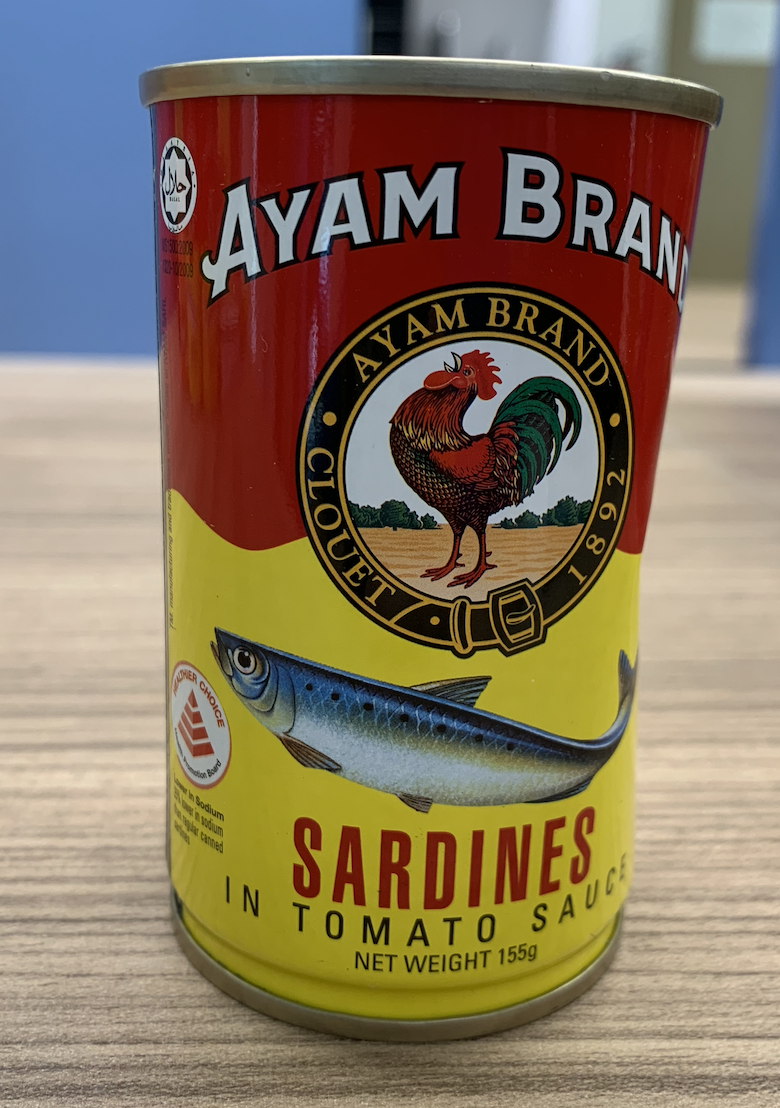sardines_100g-199g: (173, 114, 618, 976)
